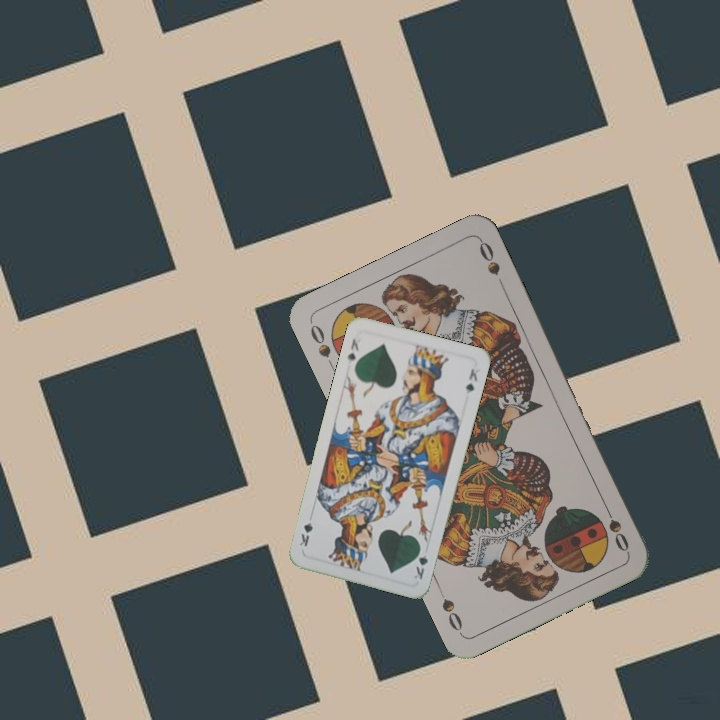GK: (409, 542, 430, 582), (343, 334, 362, 363)
SO: (599, 499, 632, 555), (306, 318, 338, 374)
